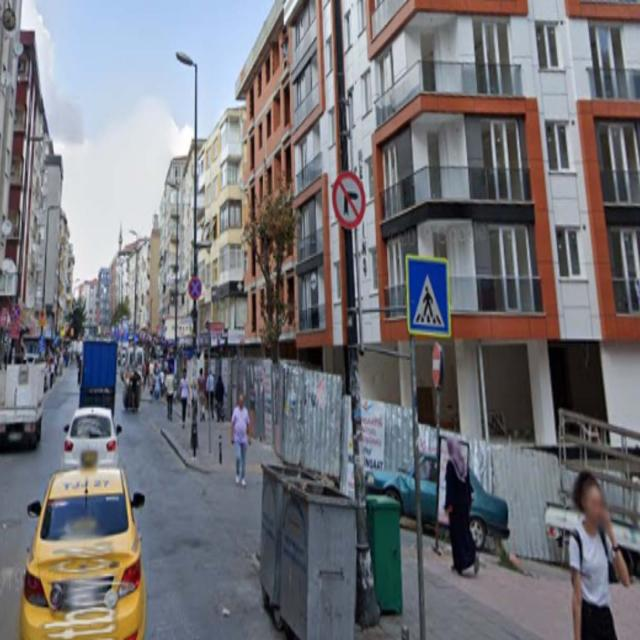sagadonulmez: (332, 171, 366, 228)
